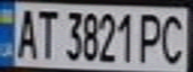1: (115, 9, 139, 63)
2: (100, 9, 121, 63)
3: (60, 7, 84, 61)
8: (78, 8, 100, 63)
A: (12, 4, 39, 60)
C: (157, 10, 190, 65)
P: (136, 10, 166, 64)
T: (33, 6, 60, 61)
